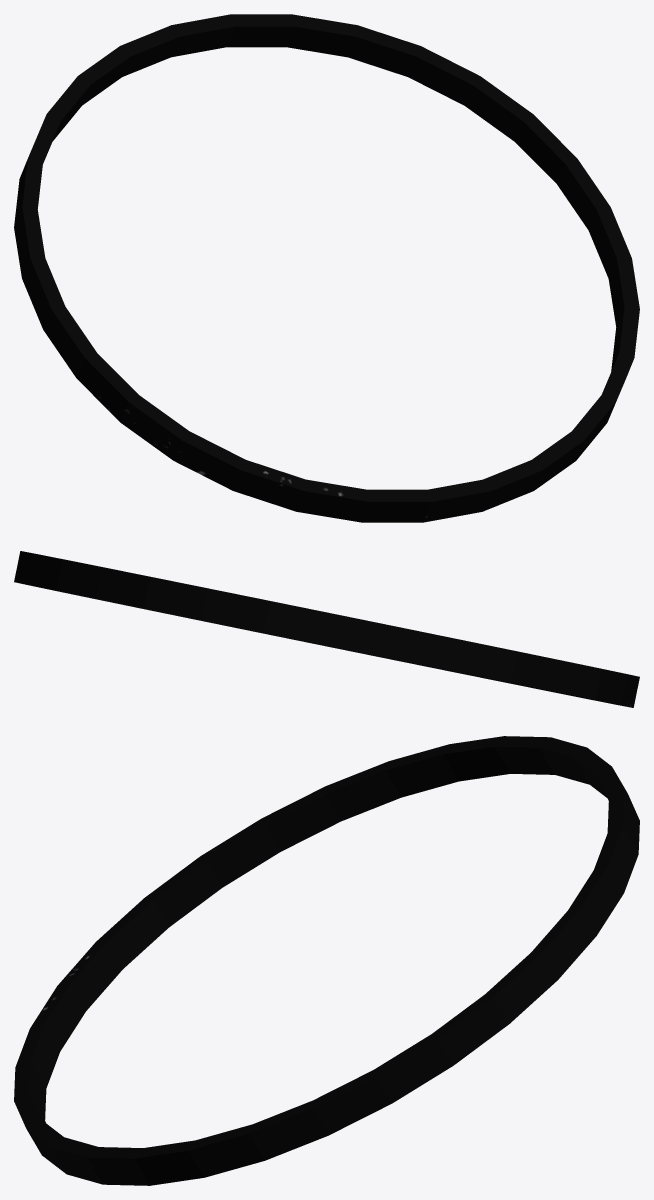
Rendered from carousel-curb.glb.
3 renders of one model, top to bottom at view 1: azimuth 30°, elevation 25°; view 2: azimuth 150°, elevation 25°; view 3: azimuth 270°, elevation 25°, orthographic. The views are drawn at different scales.
Visible parts, largest first — view 1: node_id5; view 2: node_id5; view 3: node_id5.
Boxes of the visible parts, box(x1,y1,x2,y2) form: node_id5: box(14, 14, 639, 522); node_id5: box(14, 551, 639, 707); node_id5: box(14, 736, 639, 1185).
Bounding box in the file's own units: 0.3804 × 0.1924 × 0.3451.
1 material, 1 textured.
